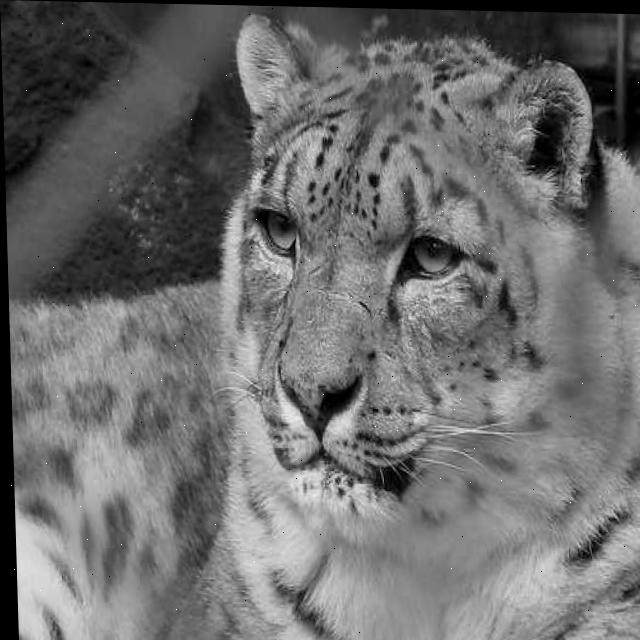Leopard: (0, 5, 640, 640)
